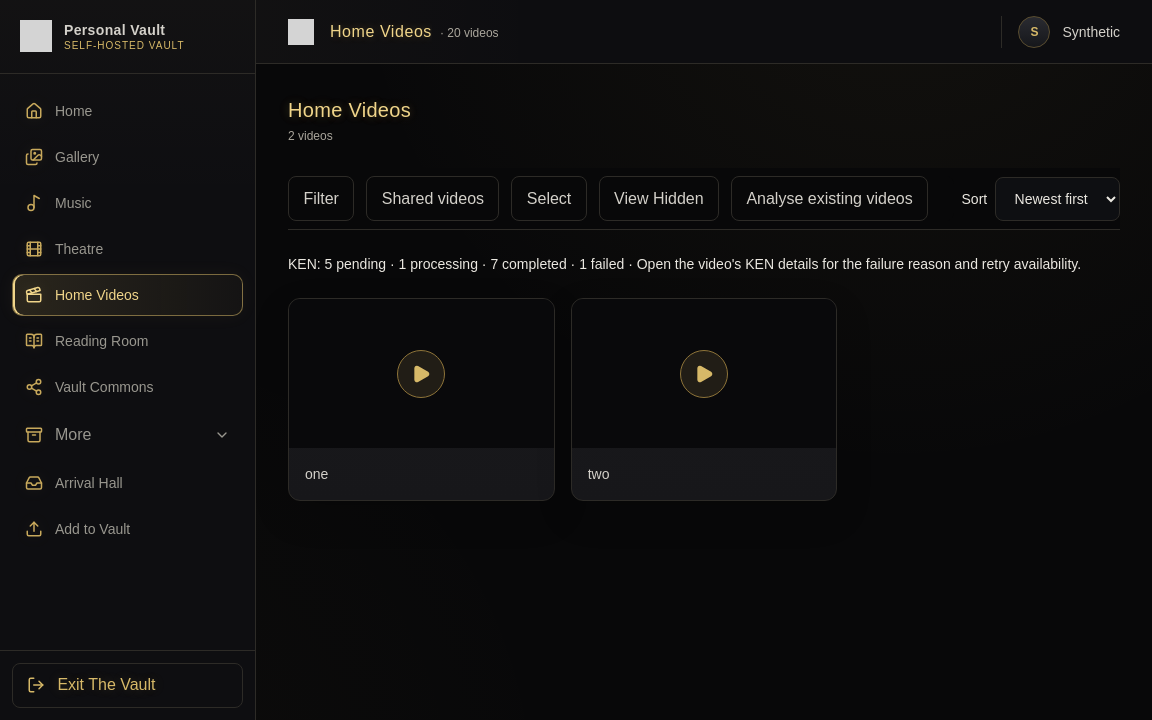
Test case: KEN summary separates pending, processing, completed and failed with bulk outcomes
Click the button "Analyse existing videos" at (830, 199), box [731,176,928,221]
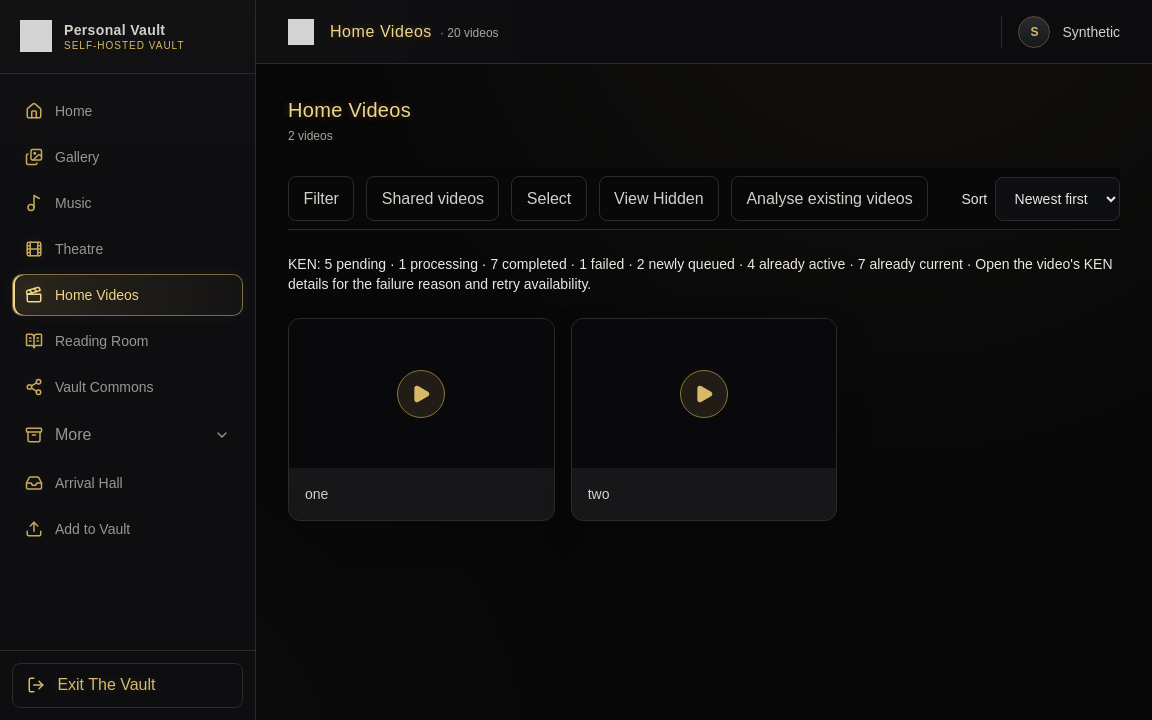
Expected: the text "2 newly queued" is shown, [624,256,735,272]
Expected: the text "4 already active" is shown, [735,256,845,272]
Expected: the text "7 already current" is shown, [845,256,963,272]
